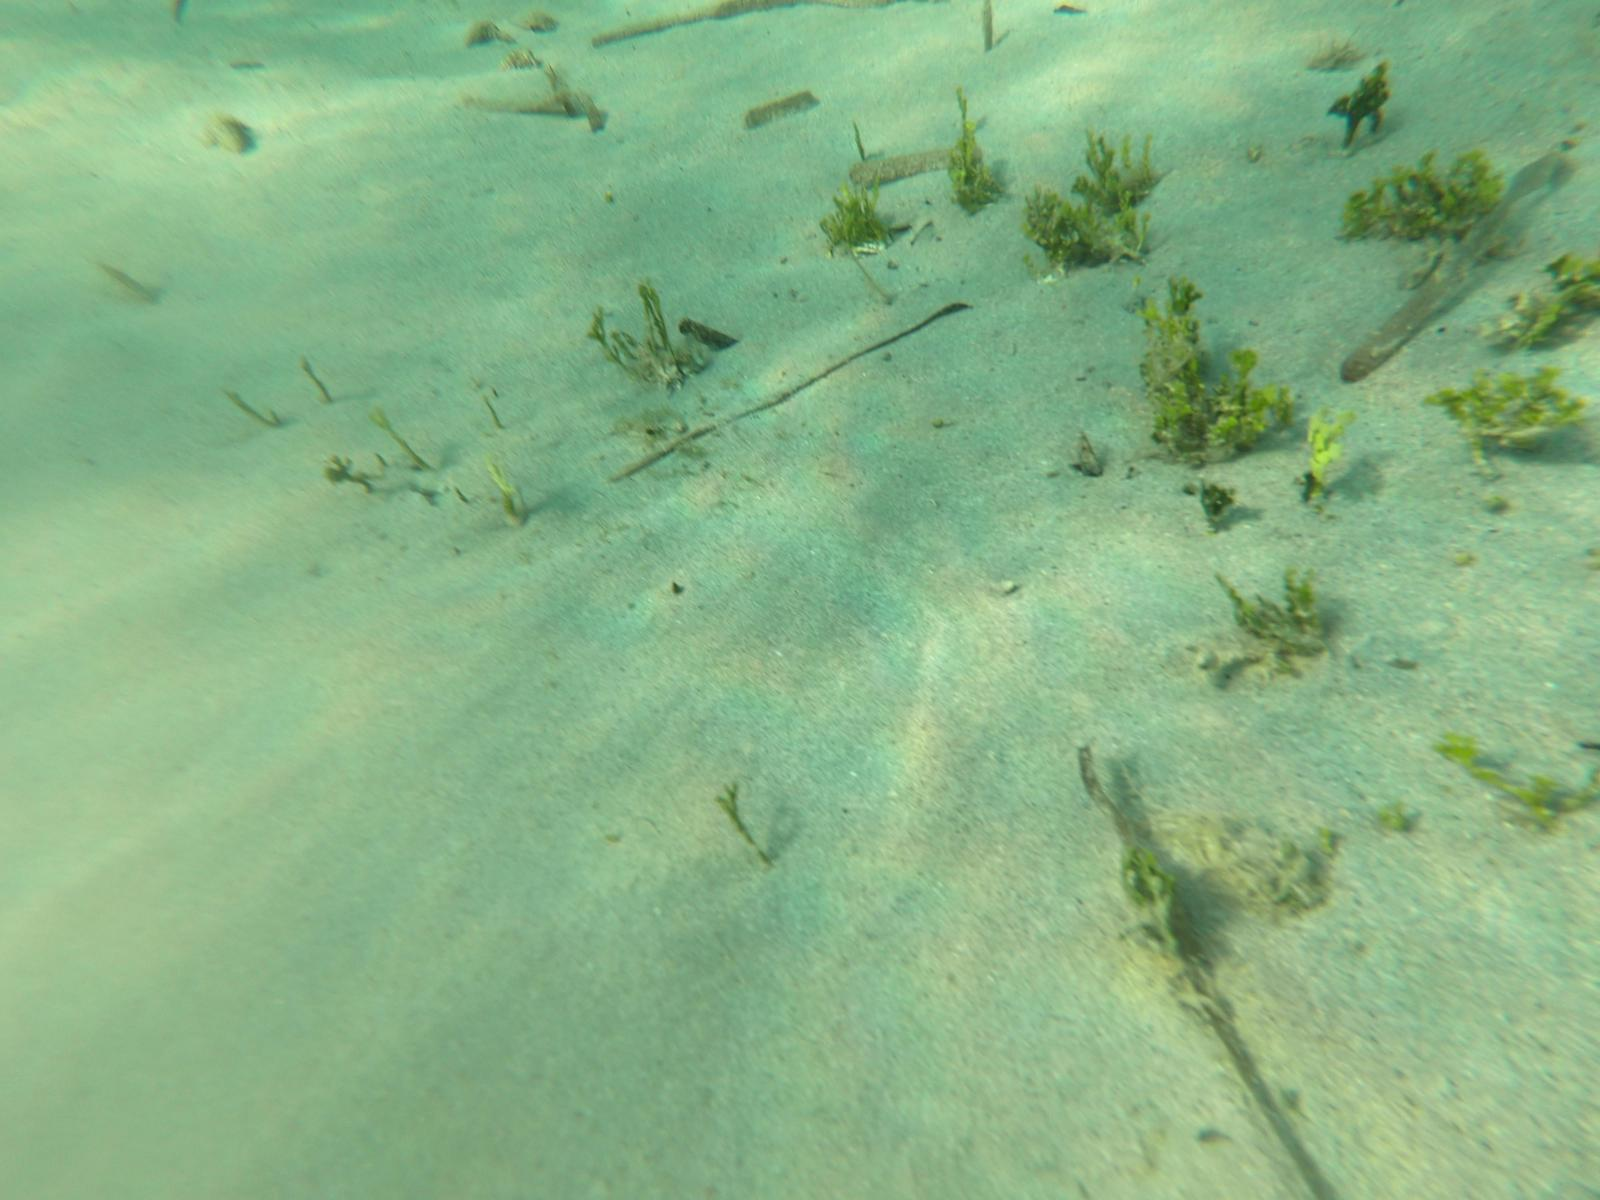halimeda: (1130, 281, 1221, 455), (1339, 147, 1499, 245), (1430, 361, 1576, 453), (1193, 348, 1291, 449), (1073, 126, 1165, 212), (1497, 274, 1600, 347), (1330, 50, 1397, 151), (1225, 576, 1323, 640), (947, 89, 997, 213), (816, 176, 888, 252), (1298, 400, 1351, 498), (1023, 189, 1089, 263), (635, 286, 684, 382), (1110, 185, 1155, 258), (485, 460, 527, 529), (323, 453, 374, 495), (714, 787, 752, 845), (585, 311, 624, 366)
